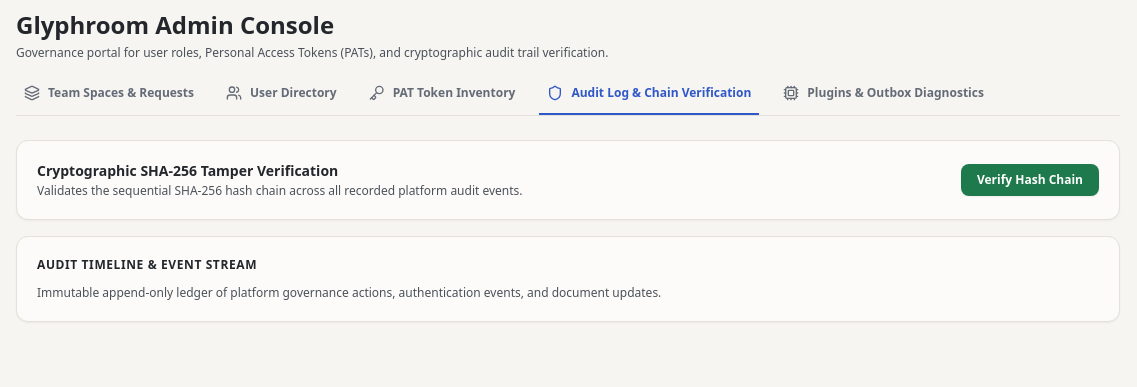
Test: AdminView Component & Cryptographic Hash Chain Verification › UI Layout & Governance Tabs › switches between User Directory, PAT Token Inventory, and Audit Timeline tabs
Note: Switch to User Directory
Click the button "User Directory": (281, 100) x1=218 y1=85 x2=345 y2=115
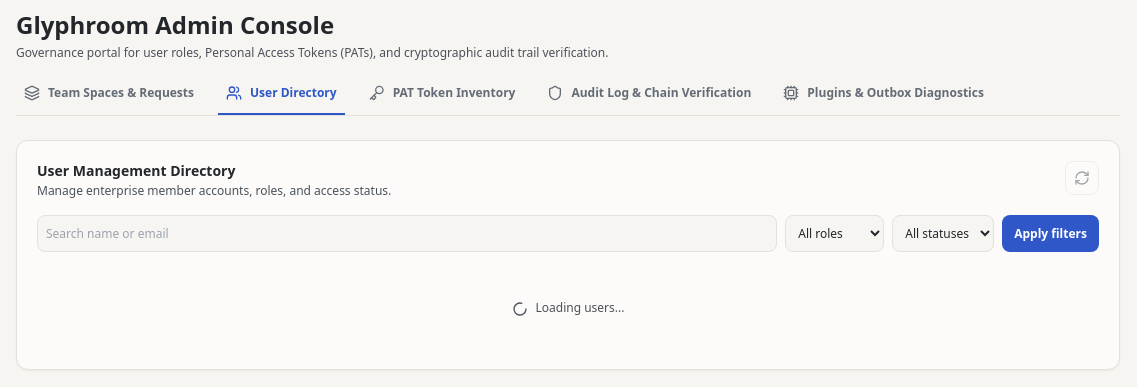
Expected: the heading "User Management Directory" is shown, x1=37 y1=161 x2=235 y2=180
Expected: the heading "Cryptographic SHA-256 Tamper Verification" is gone
Note: Switch to PAT Token Inventory
Click the button "PAT Token Inventory": (442, 100) x1=361 y1=85 x2=523 y2=115
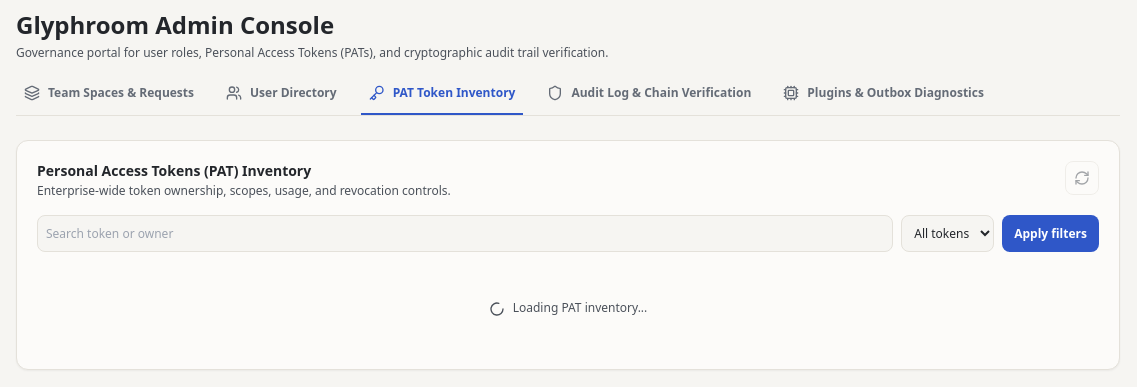
Expected: the heading "Personal Access Tokens (PAT) Inventory" is shown, x1=37 y1=161 x2=311 y2=180
Expected: the heading "User Management Directory" is gone
Note: Switch back to Audit Log & Chain Verification
Click the button "Audit Log & Chain Verification": (649, 100) x1=539 y1=85 x2=759 y2=115
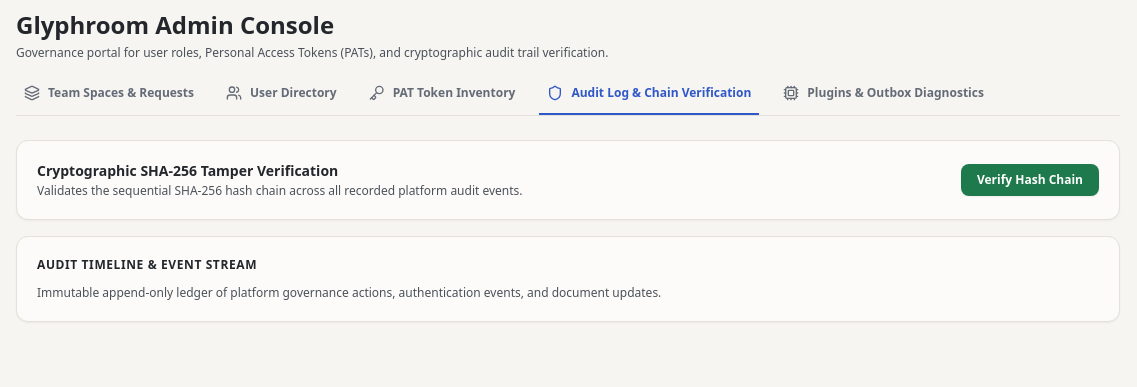
Expected: the heading "Cryptographic SHA-256 Tamper Verification" is shown, x1=37 y1=161 x2=338 y2=180
Expected: the heading "Audit Timeline & Event Stream" is shown, x1=37 y1=256 x2=257 y2=273
